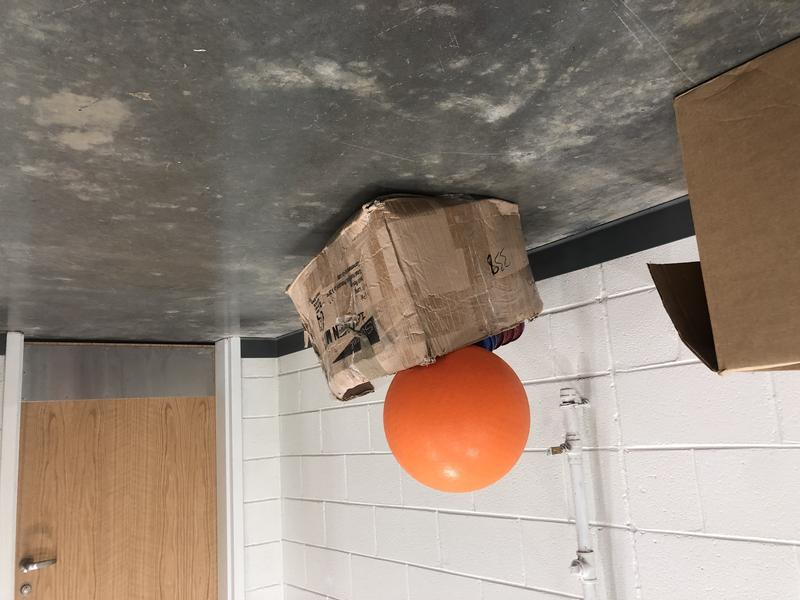ball: (373, 344, 532, 494)
